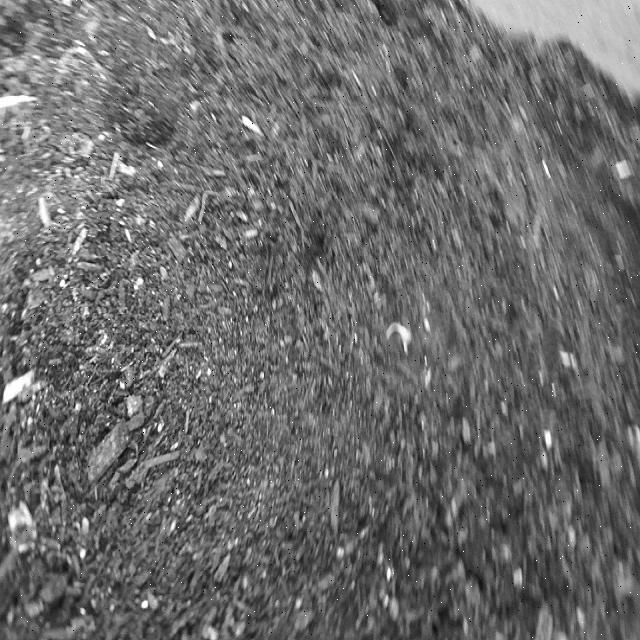Unhealthy: (380, 308, 416, 371)
